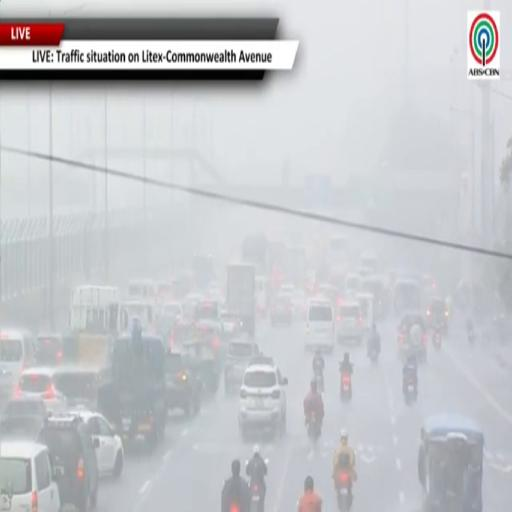car: (38, 413, 98, 511), (0, 440, 61, 511), (239, 357, 287, 439), (71, 409, 124, 477), (54, 364, 110, 409), (165, 348, 202, 415), (182, 334, 222, 395), (14, 367, 67, 411), (0, 329, 34, 397), (0, 397, 48, 440), (224, 340, 260, 394), (305, 299, 335, 351), (397, 311, 428, 361), (337, 300, 365, 344), (156, 302, 183, 342), (3, 397, 48, 419), (35, 334, 64, 365), (194, 300, 222, 332), (426, 296, 449, 333), (270, 293, 292, 326), (221, 310, 241, 338), (291, 290, 307, 321), (318, 283, 339, 306), (183, 293, 202, 318), (345, 272, 362, 298), (280, 283, 294, 294)
motorcycle: (336, 468, 352, 511), (250, 479, 264, 511), (307, 412, 321, 443), (403, 376, 417, 405), (250, 482, 263, 511), (341, 372, 351, 403), (314, 371, 324, 393), (432, 329, 441, 350), (368, 348, 378, 364), (468, 330, 475, 345), (230, 503, 240, 511)
truck: (98, 328, 166, 449), (63, 285, 128, 367), (226, 263, 255, 337), (242, 233, 267, 273)
